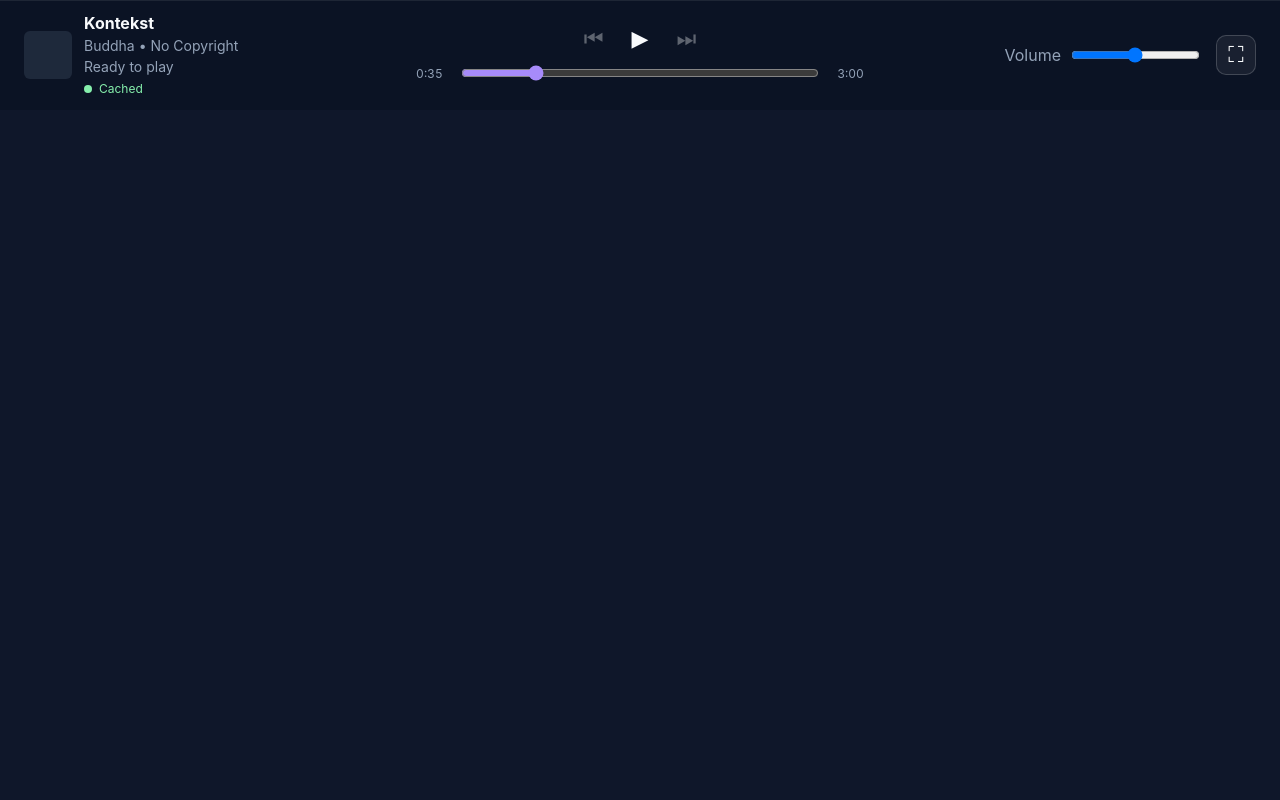
Test: MC-T51: cache-status integration › renders confirmed provider result present as Cached
Expected: the text "Kontekst" is shown, [84,13,154,33]
Expected: the text "Cached" is shown, [84,81,143,98]
Click the button named "Expand player".
click(1236, 55)  # box [1216,35,1256,75]
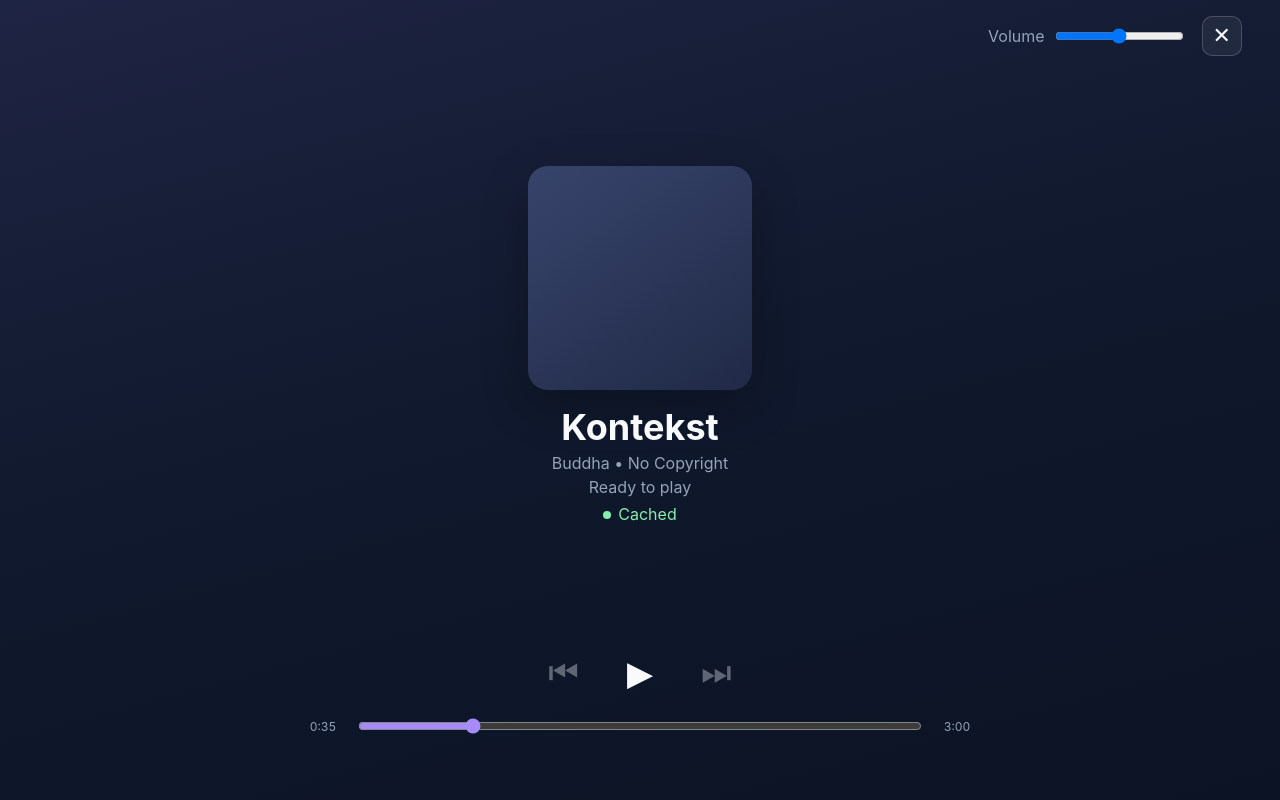
Expected: the text "Cached" is shown, [603,503,677,526]
Expected: the dialog is shown
